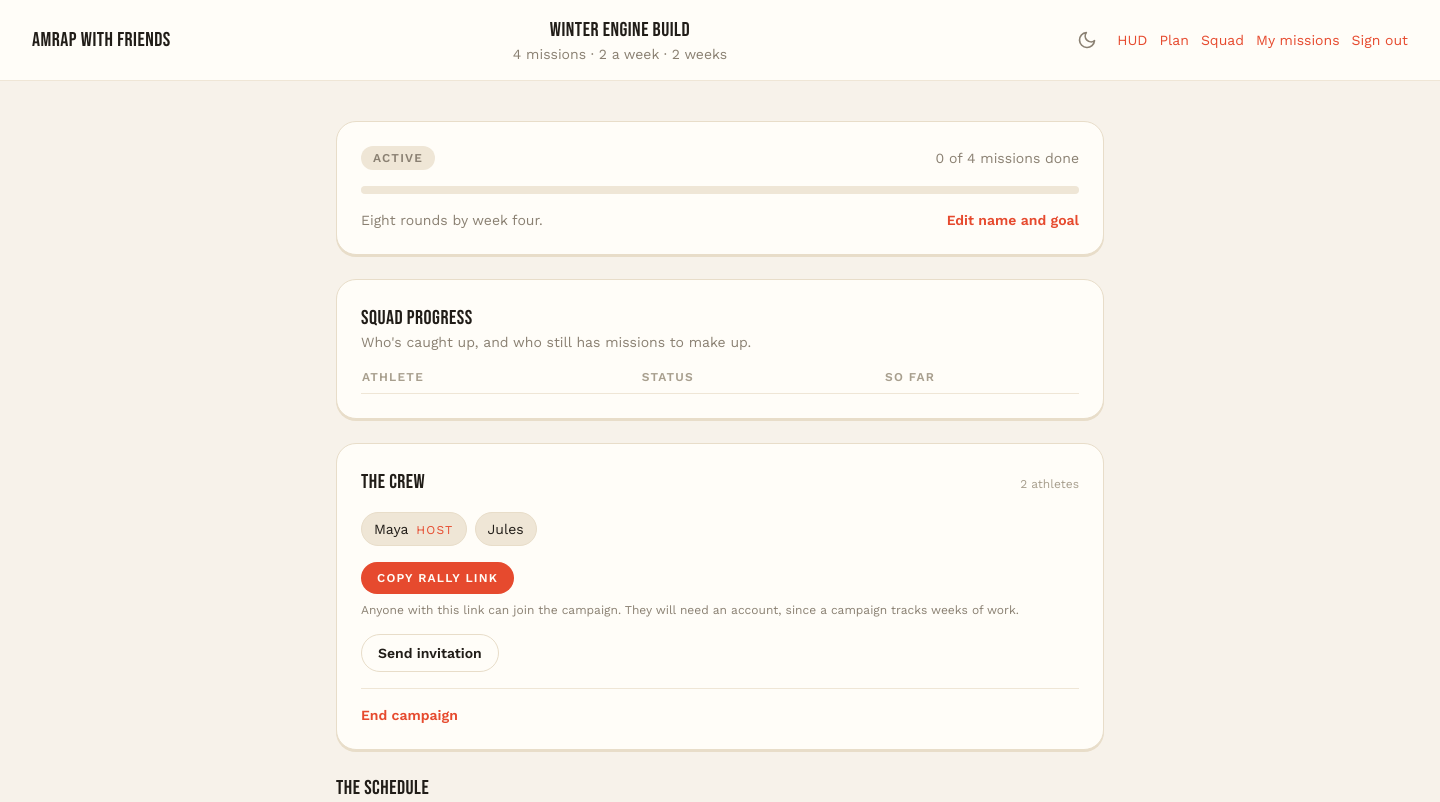
Test: CampaignDetailPage › editing › keeps the form open and shows why when the server refuses
Step 1. Click the button "Edit name and goal" → click(1013, 220), box [947,210,1079,230]
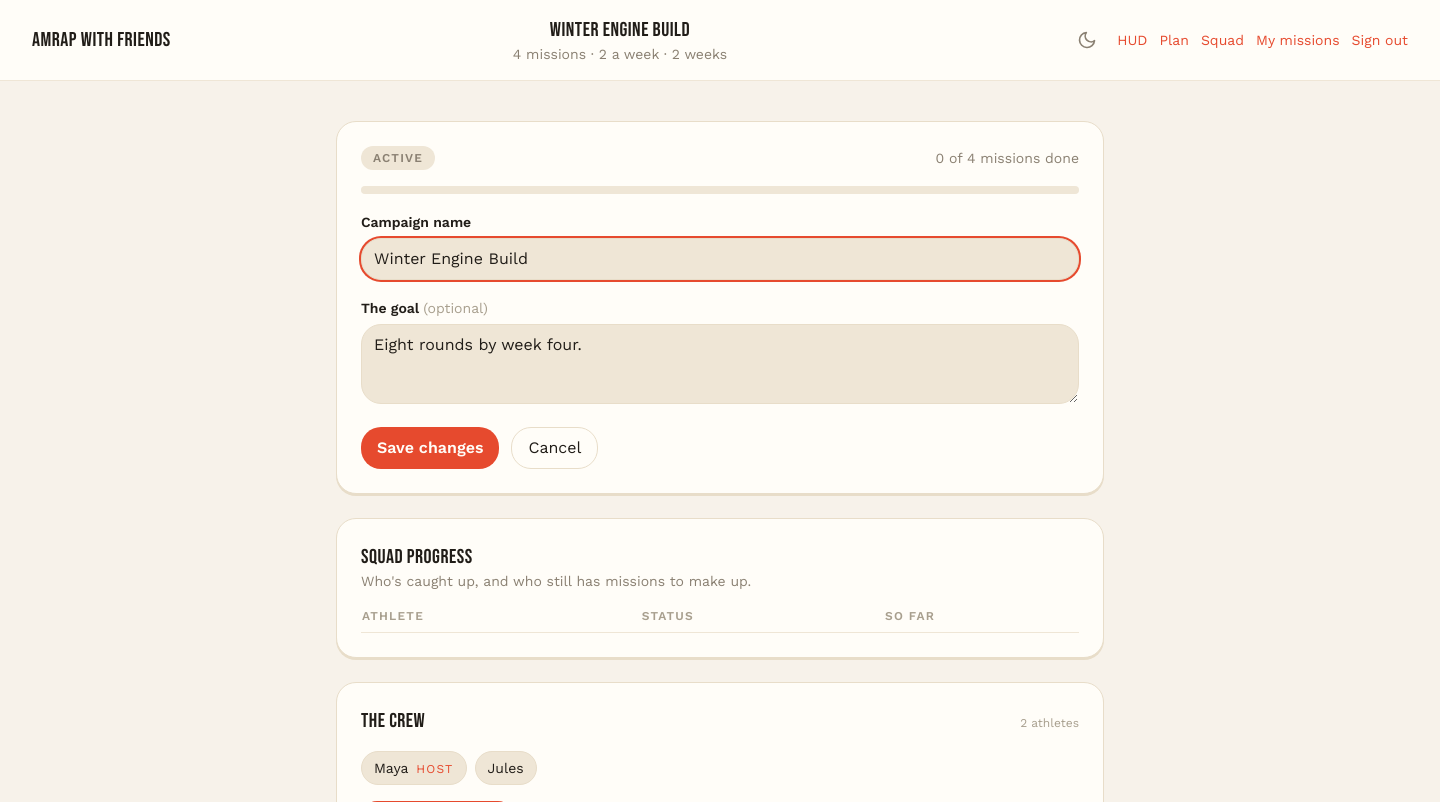
Step 2. Click the button "Save changes" → click(430, 448), box [361,427,499,469]
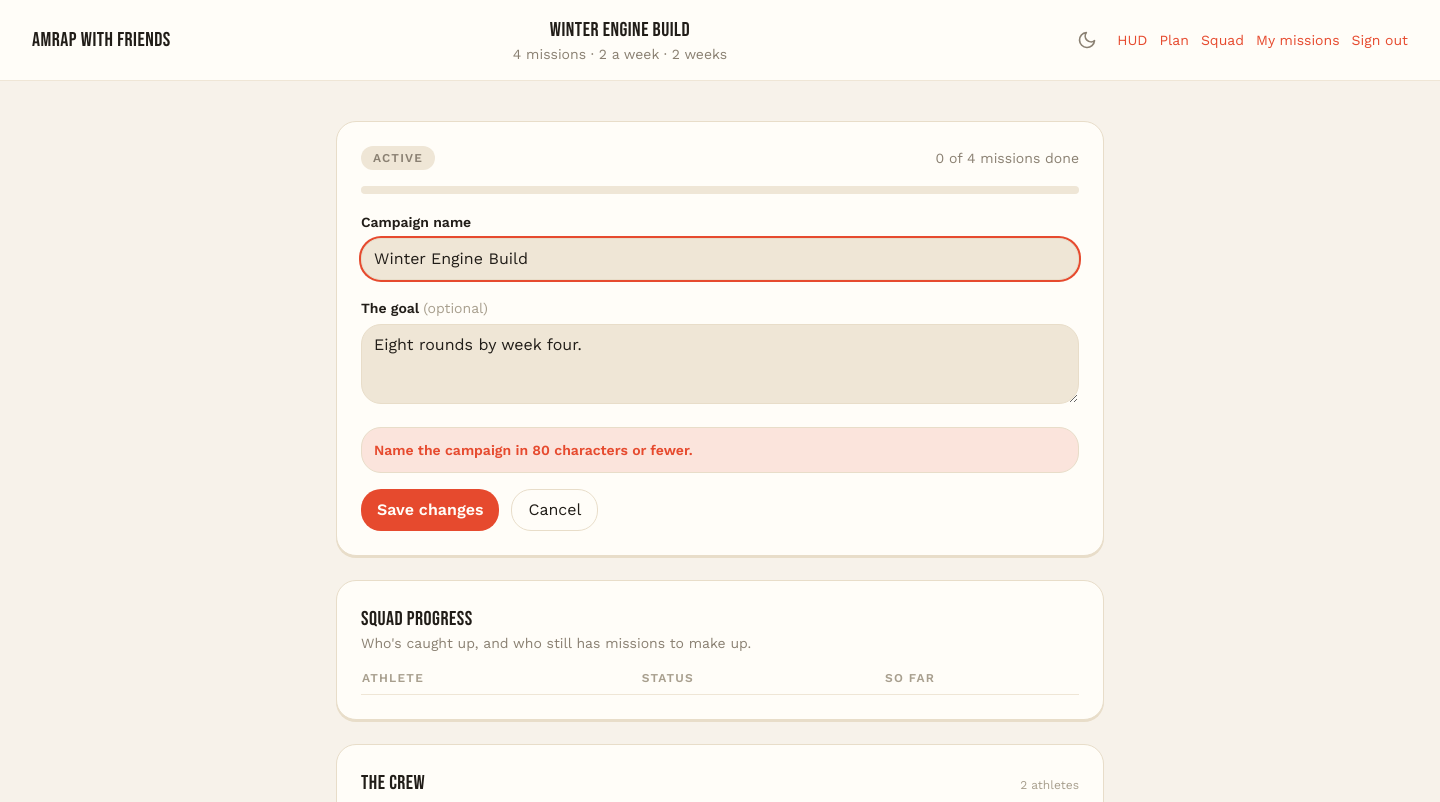
Check: the button "Save changes" is shown, box [361,489,499,531]
Check: the text "Name the campaign in 80 characters or fewer." is shown, box [361,427,1079,473]
